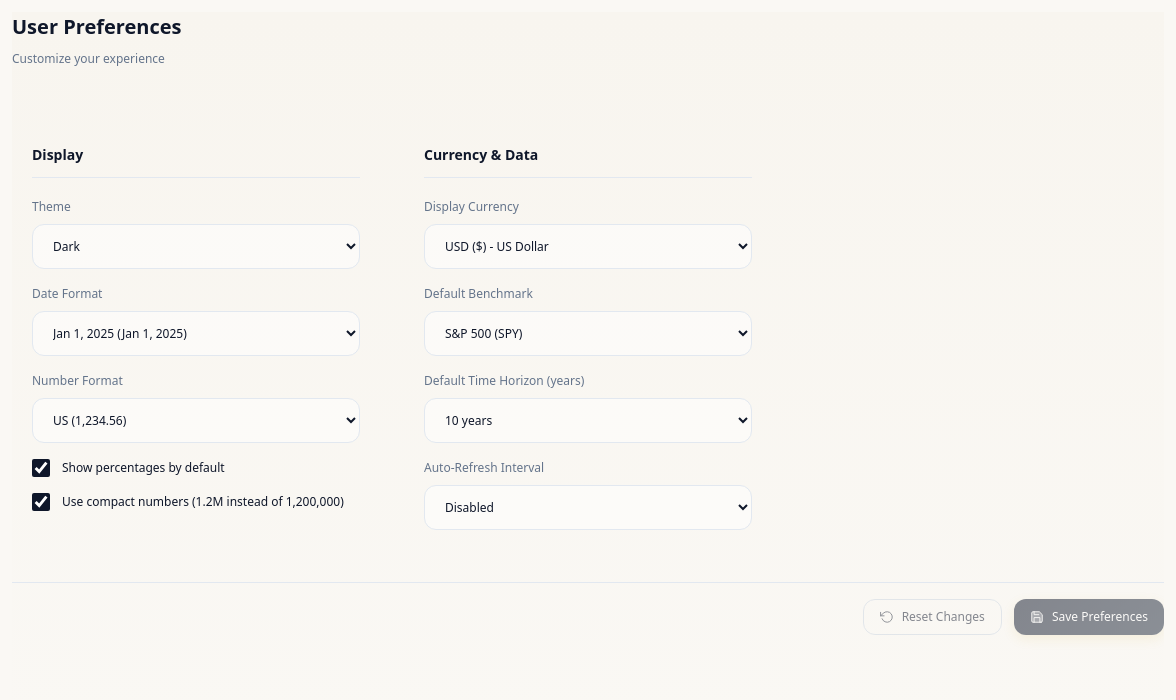
Test: PreferencesForm › shows success message after saving
The image size is (1176, 700).
Change theme and save
Select "Light" in the dropdown labelled "Theme" at (196, 246), box [32,224,360,269]
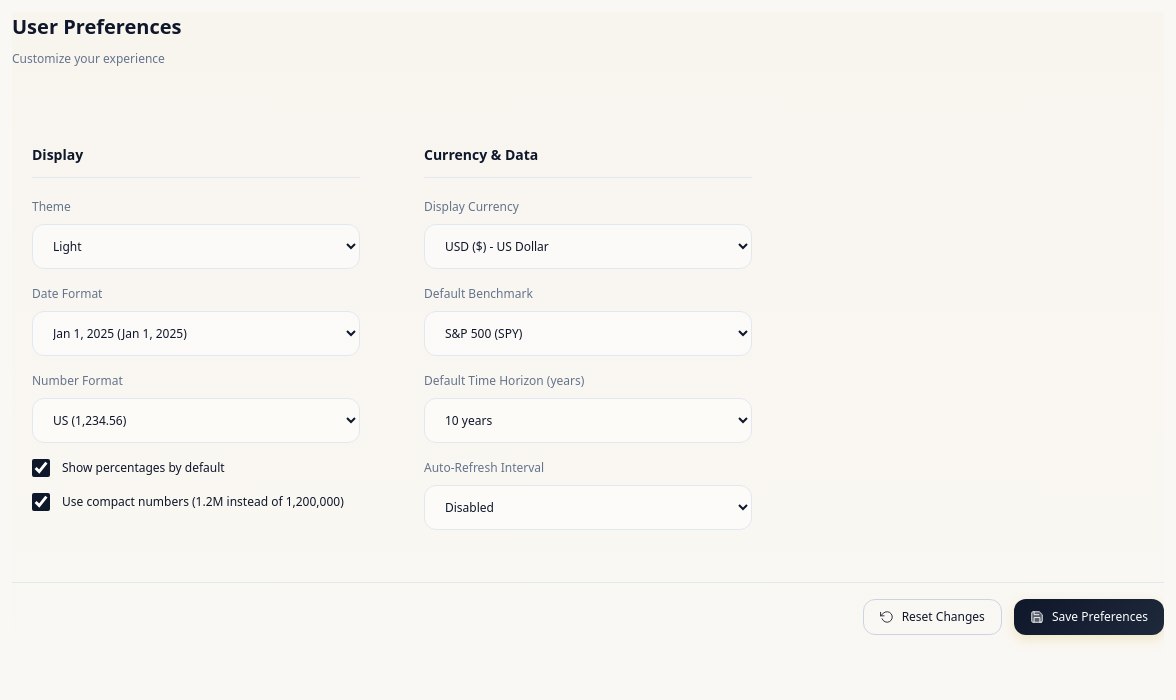
Click the button "Save Preferences" at (1089, 617), box [1014,599,1164,635]
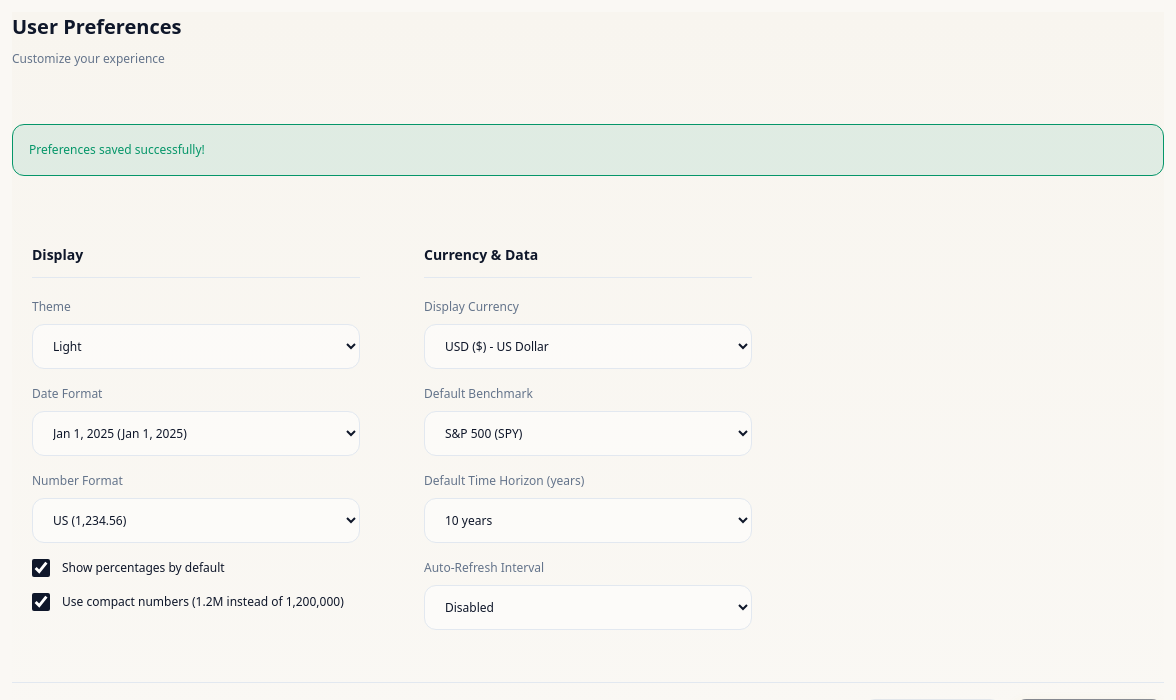
Expected: the text "Preferences saved successfully!" is shown, [12,124,1164,176]
